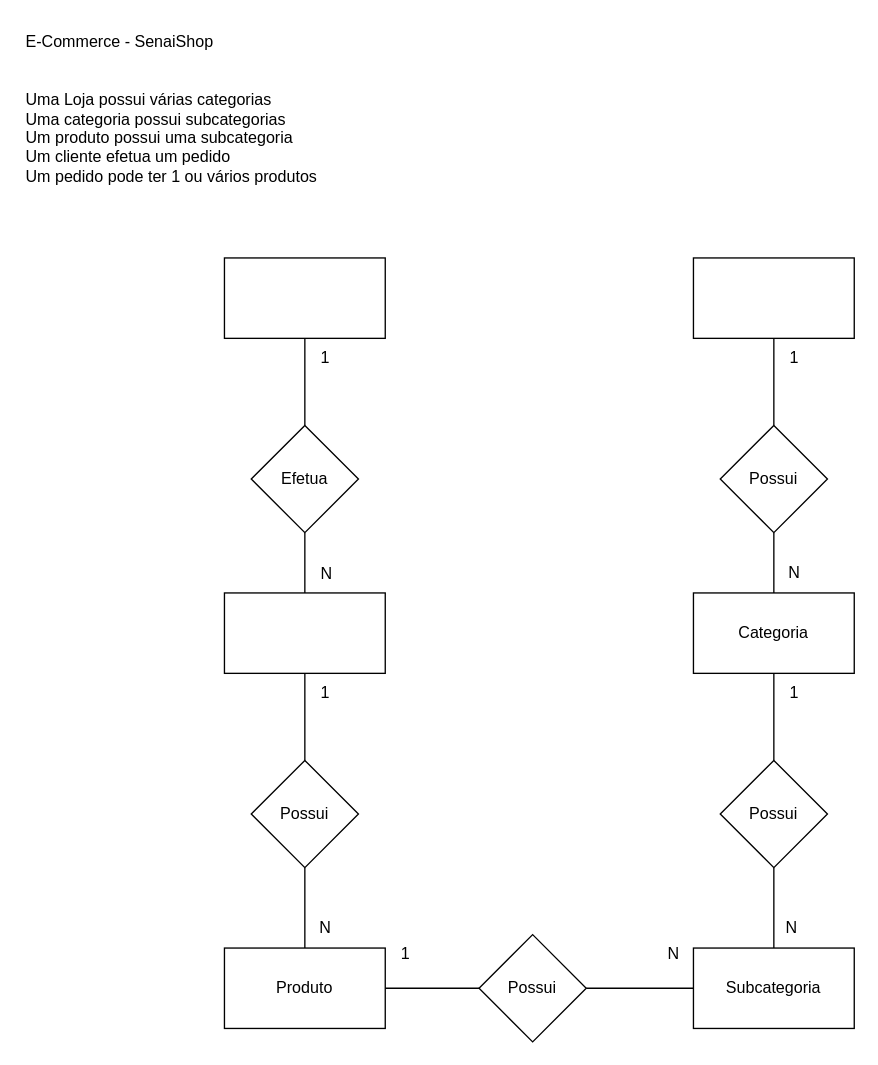
Image size: 878x1065. Some labels were removed from this diagram. Each missing label, with the centre of its shape:
"Cliente" belongs at point (304, 297).
"Loja" belongs at point (773, 297).
"Pedido" belongs at point (304, 632).
